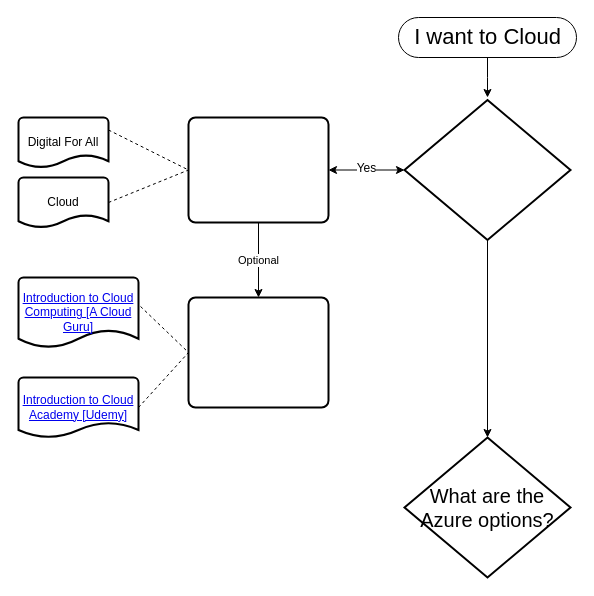
Some shapes in this 594 by 596 pixel diagram are drawn without their labels. Here are the shapes that lost their labels. From the top down, the centre of each, then its label:
(258,169): Start with MOODLE
(487,169): Do I need foundation training?
(258,352): Free online courses
